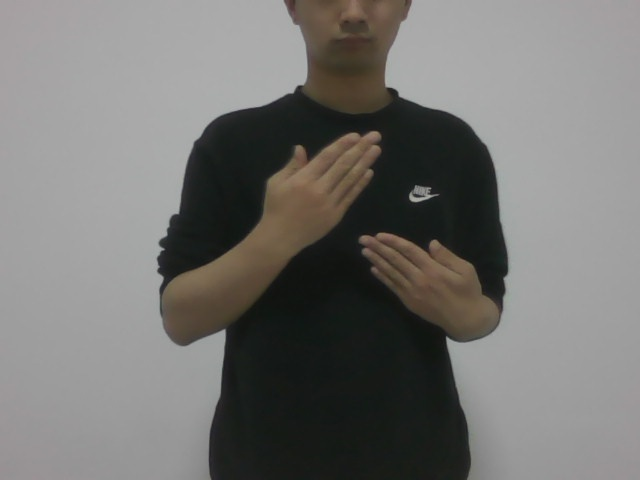tea: (229, 119, 491, 347)
